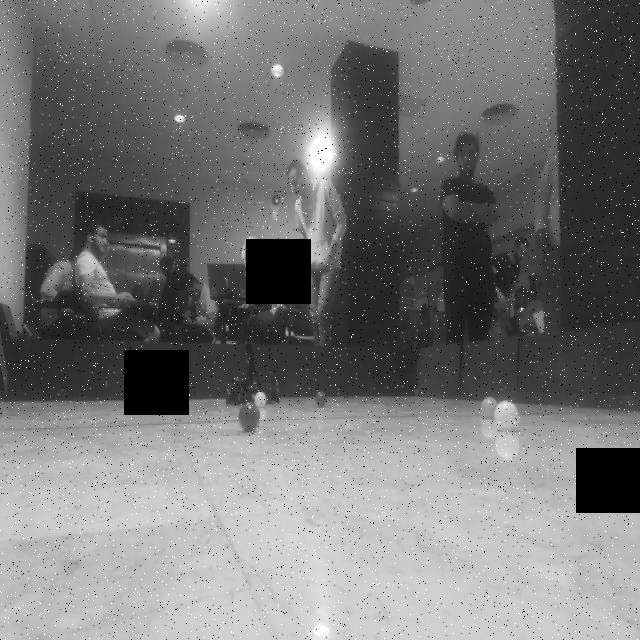ball: (492, 397, 519, 428), (238, 400, 262, 434), (477, 394, 498, 423), (312, 385, 330, 408), (252, 390, 269, 410)
